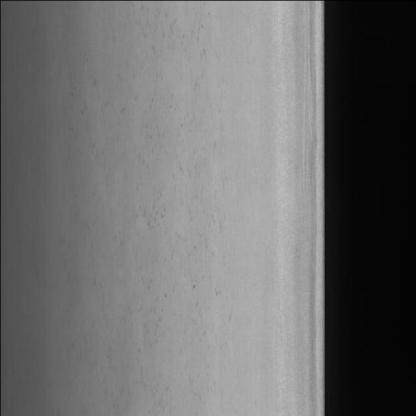silk_spot: (126, 21, 223, 337)
